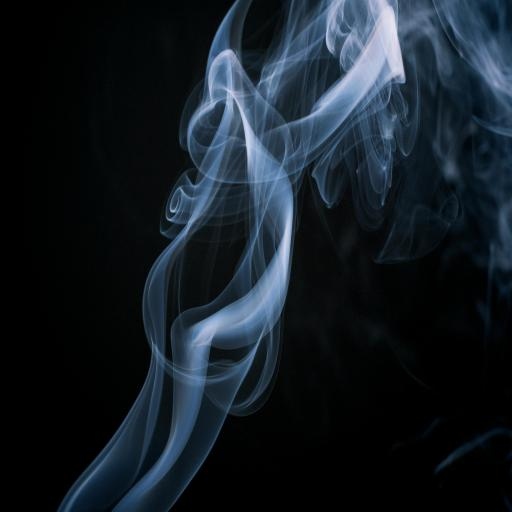smoke: (2, 2, 512, 512)
